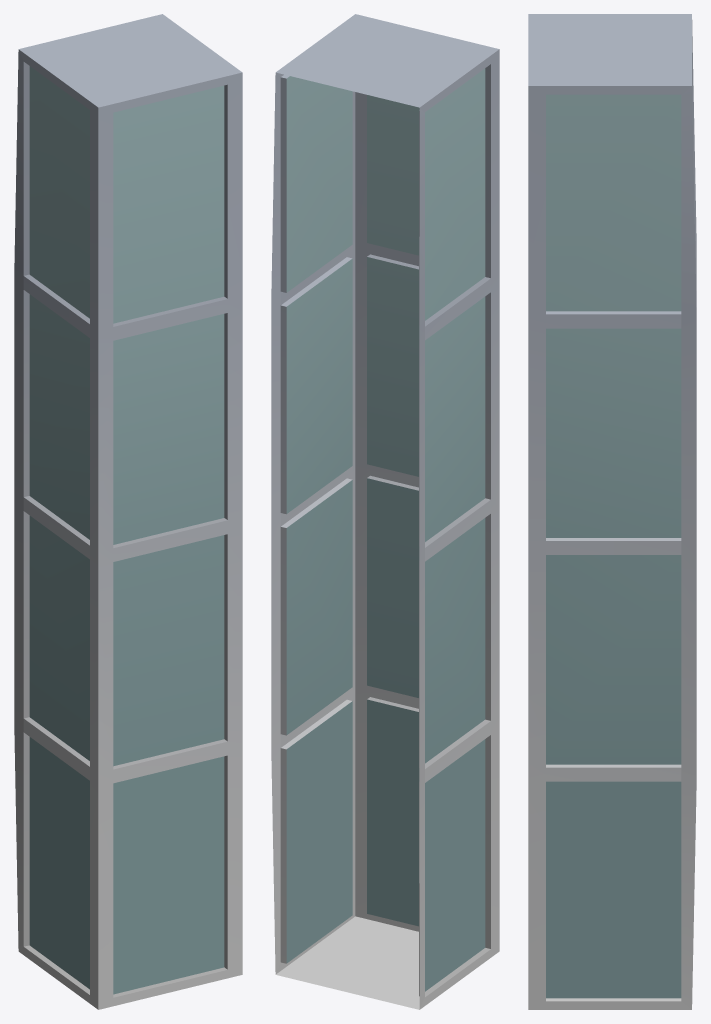
The model's file is Elevator.fbx.
3 views of the same model, side by side, from view 1: azimuth 30°, elevation 25°; view 2: azimuth 150°, elevation 25°; view 3: azimuth 270°, elevation 25° (orthographic). The views are drawn at different scales.
Parts seen in each view (by area): view 1: Lift.004; view 2: Lift.004; view 3: Lift.004.
Part boxes in pixels (x1=…): Lift.004: x1=14, y1=14, x2=242, y2=1009; Lift.004: x1=271, y1=14, x2=499, y2=1009; Lift.004: x1=528, y1=14, x2=696, y2=1009.
Size of the model in its own units: 4.51 by 4.69 by 27.33.
